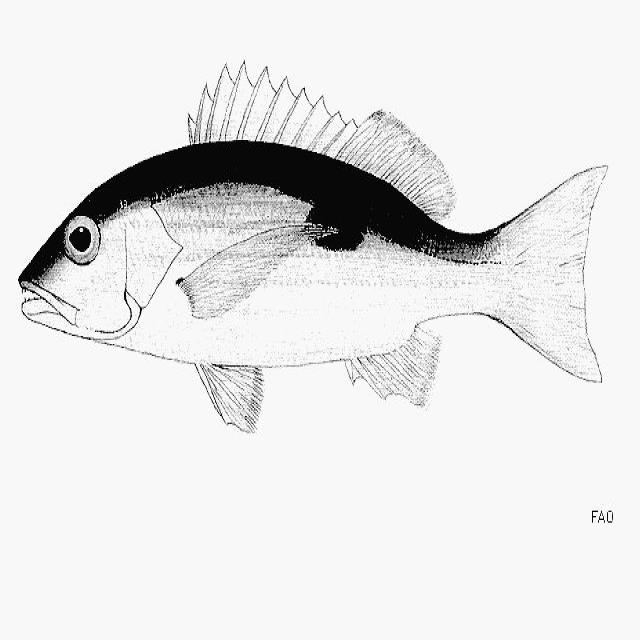ikan: (17, 58, 608, 434)
